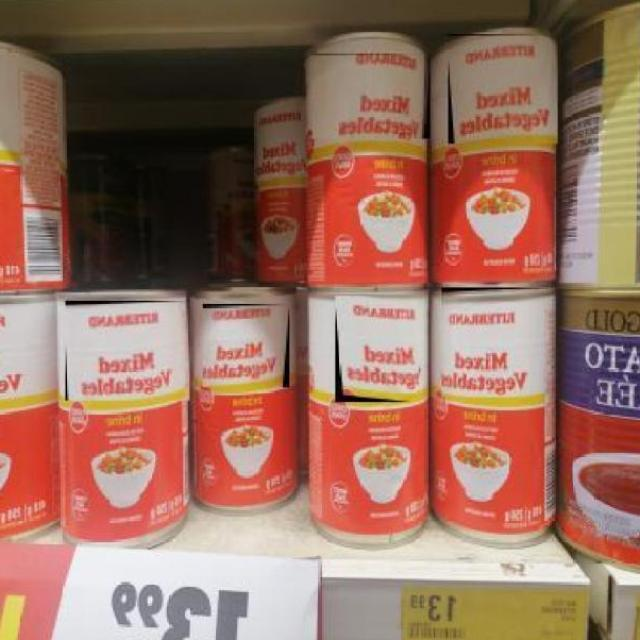Beans: (63, 301, 189, 402), (447, 35, 558, 146), (440, 288, 544, 399), (311, 54, 431, 141), (334, 296, 419, 403), (200, 303, 290, 390)
